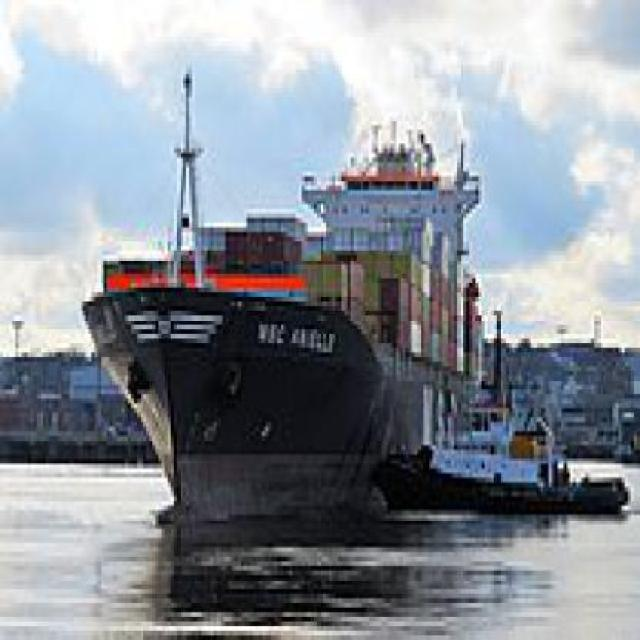container: (89, 66, 523, 530)
